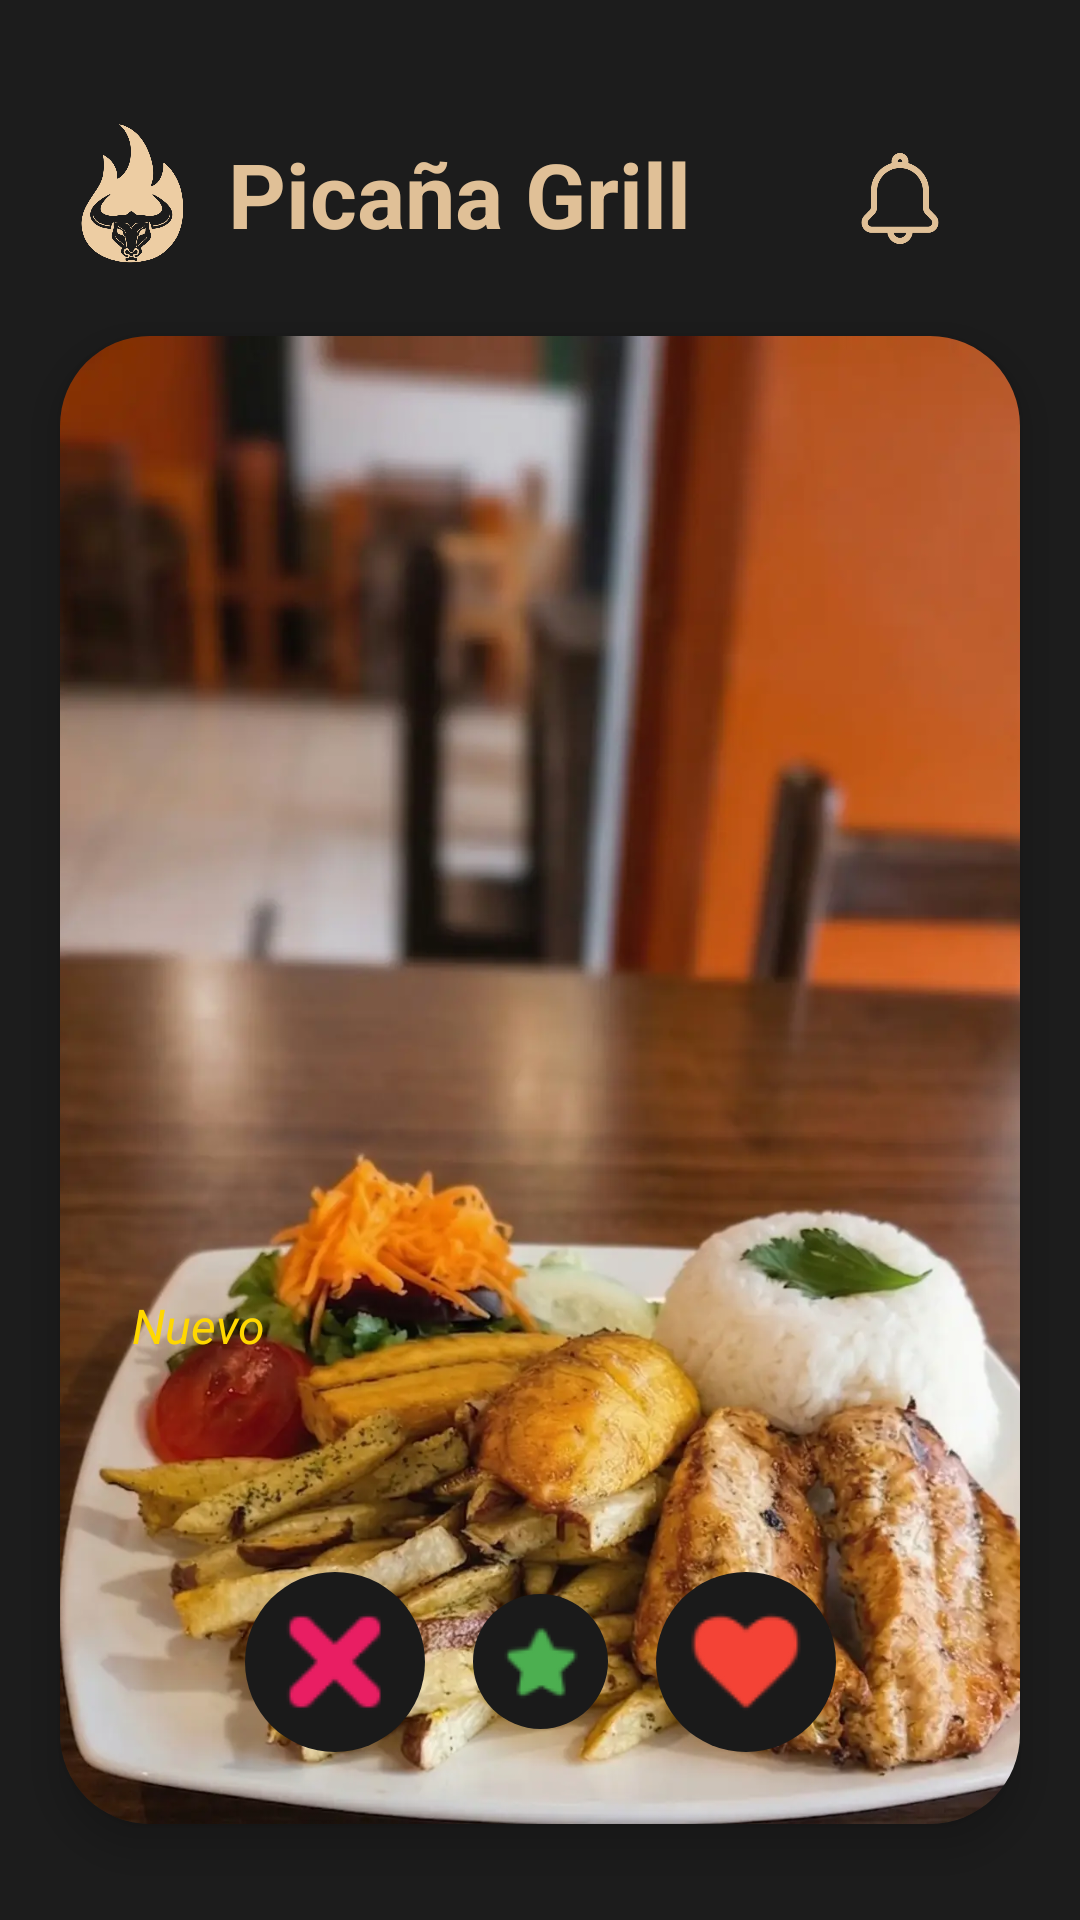

Named icons in this screenshot (1080×1920) and their centers, (x=x, y=y):
cerrar: (x=335, y=1662)
corazon: (x=746, y=1662)
estrella: (x=540, y=1661)
notificacion: (x=900, y=198)
